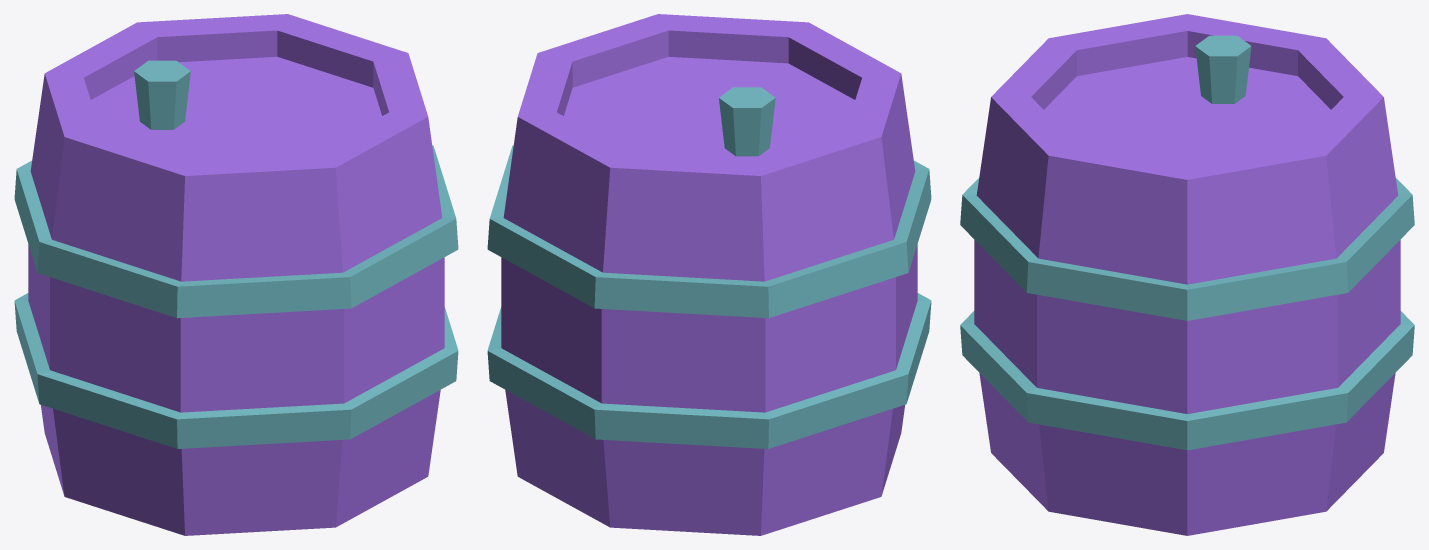
Rendered from barrel.fbx.
3 views of the same model, side by side, from view 1: azimuth 30°, elevation 25°; view 2: azimuth 150°, elevation 25°; view 3: azimuth 270°, elevation 25° (orthographic).
Parts seen in each view (by area): view 1: Barrel; view 2: Barrel; view 3: Barrel.
Boxes of the visible parts, x1,y1,x2,y2 form: Barrel: [14, 14, 458, 535]; Barrel: [487, 14, 931, 535]; Barrel: [960, 14, 1414, 535].
Size of the model in its own units: 232 by 213 by 232.
